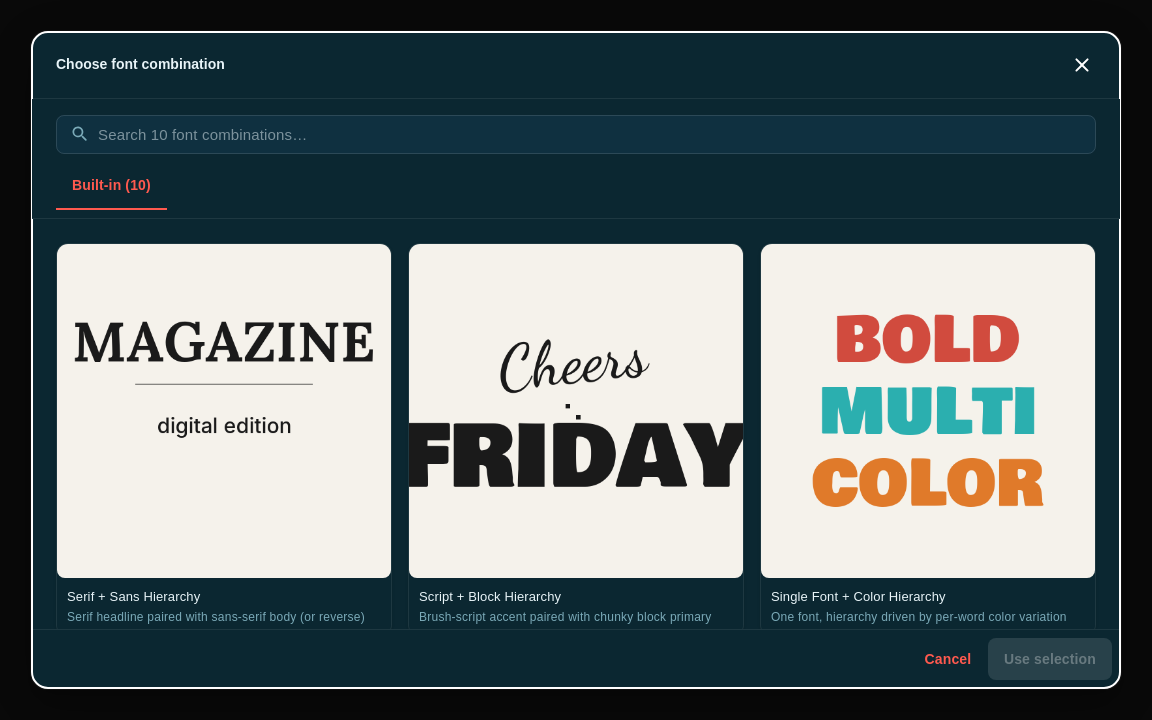
FontCombinationPickerModal › search filter narrows results by ui_label substring
The image size is (1152, 720).
In the field named "Search font combinations": x=597, y=134 [98,115,1096,154], type "Script"
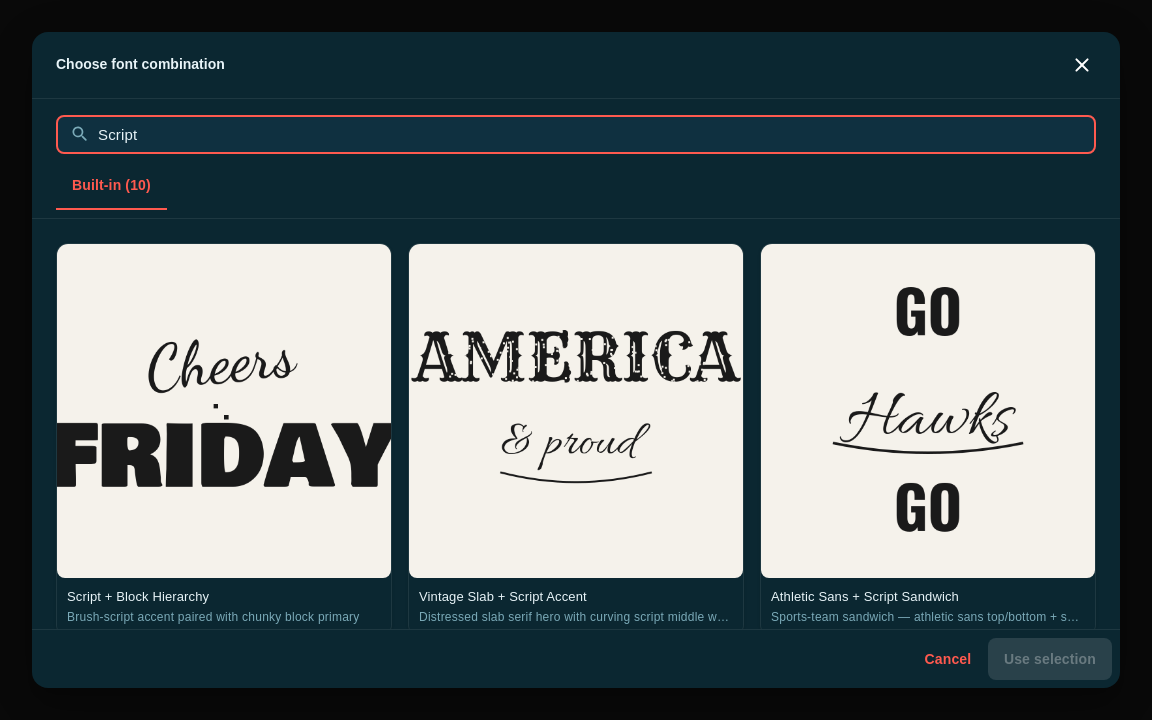
Expected: the heading "Script + Block Hierarchy" is shown, [67,589,209,604]
Expected: the button "Serif + Sans Hierarchy" is gone
